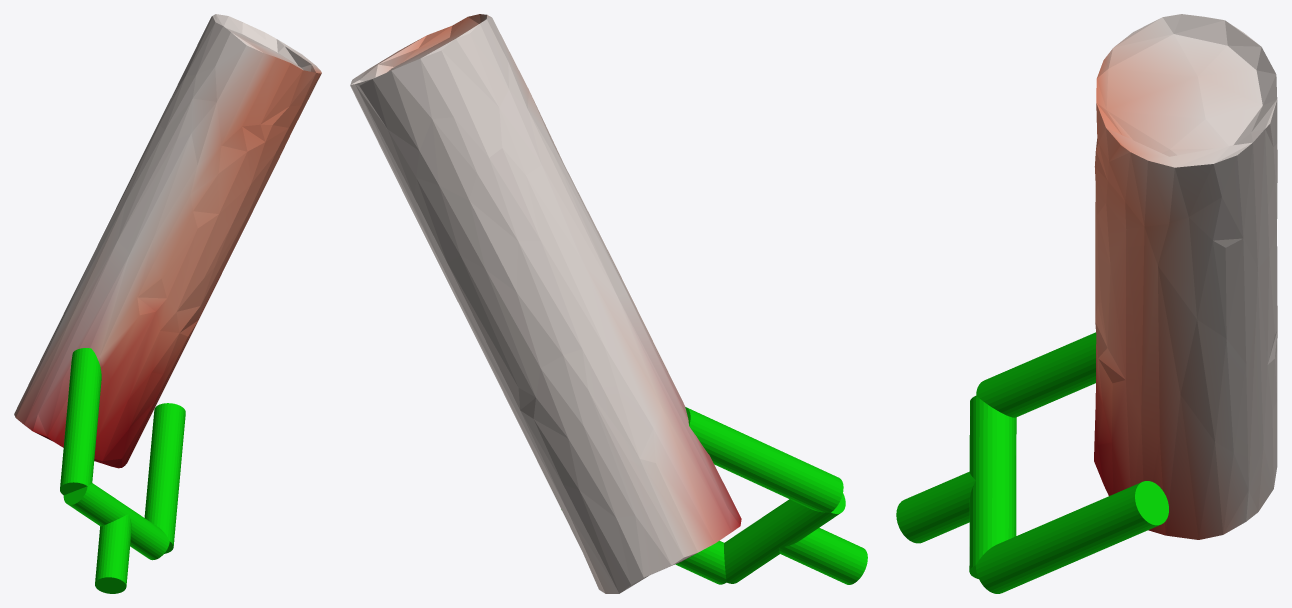
Rendered from round_001_trial_000.obj.
3 views of the same model, side by side, from view 1: azimuth 30°, elevation 25°; view 2: azimuth 150°, elevation 25°; view 3: azimuth 270°, elevation 25° (orthographic). The views are drawn at different scales.
Visible parts, largest first — view 1: geometry_0, geometry_1; view 2: geometry_0, geometry_1; view 3: geometry_0, geometry_1.
Boxes of the visible parts, <box> form: geometry_0: <box>14,14,321,468</box>; geometry_1: <box>60,348,185,593</box>; geometry_0: <box>350,14,741,593</box>; geometry_1: <box>561,407,867,584</box>; geometry_0: <box>1094,14,1277,539</box>; geometry_1: <box>896,332,1168,593</box>.
Size of the model in its own units: 0.1145 by 0.1586 by 0.0817.
